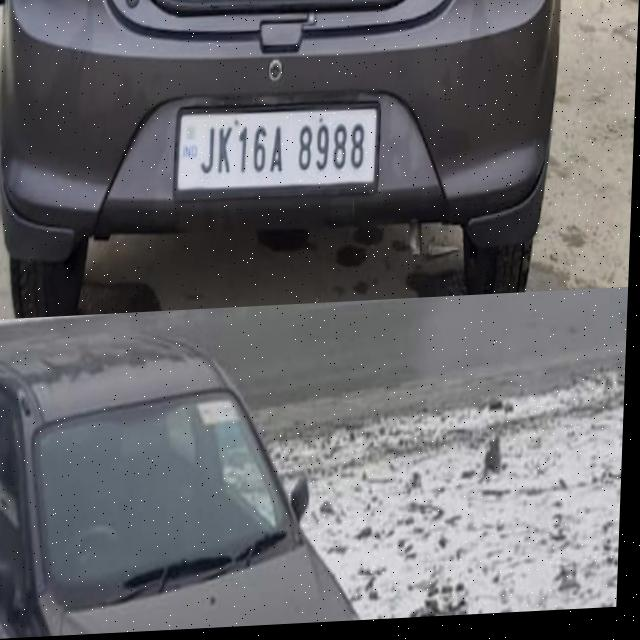plate: (170, 103, 385, 213)
